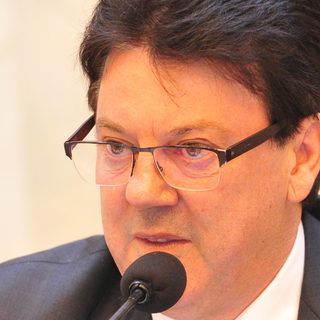eye: (163, 134, 219, 166), (97, 134, 139, 161)
